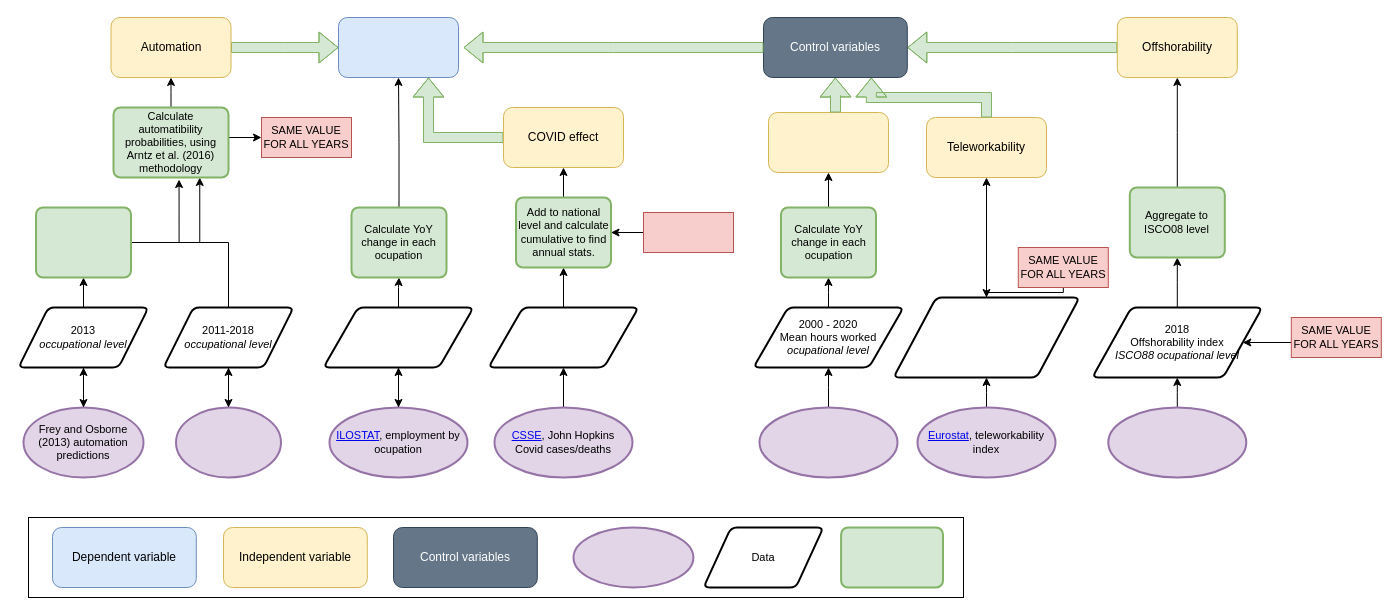
This 1399x615 diagram has some shape labels left out. The shapes that lost their labels are listed below. From the top down, each one's box as (x1, y1, x2, y2) in pixels, then its label:
(338, 16, 458, 78): Job polarisation
(768, 112, 888, 172): Resilience to quarantine
(34, 206, 132, 278): Cross-map to ISCO8
(642, 212, 734, 252): I will use either cases or deaths per capita
(322, 306, 474, 368): 2000 - 2020 People employed ocupational level
(487, 306, 639, 368): 2019-2021 Cases of COVID Regional level
(892, 296, 1080, 378): 2020 Technical and social teleworkability ISCO88 ocupational level
(174, 406, 282, 478): PIAAC, ocupational survey
(758, 406, 898, 478): ILOSTAT , mean hours worker by ocupation
(1107, 406, 1247, 478): LIS , offshorability index
(572, 526, 694, 588): Source
(840, 526, 944, 588): Transformation or process
